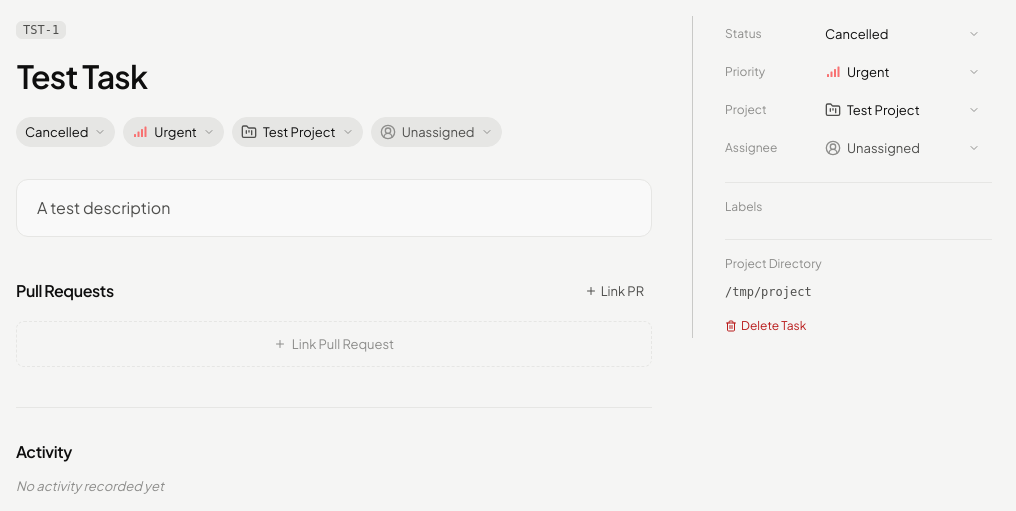
Scenario: TaskDetail › task fields › renders project chip and lists workspace projects in popover
Expected: the text "Test Project" below "TST-1" is shown, [263,124,336,140]
Click the button with test id "project-chip" at {"x": 902, "y": 110}, box [819,96,986,124]
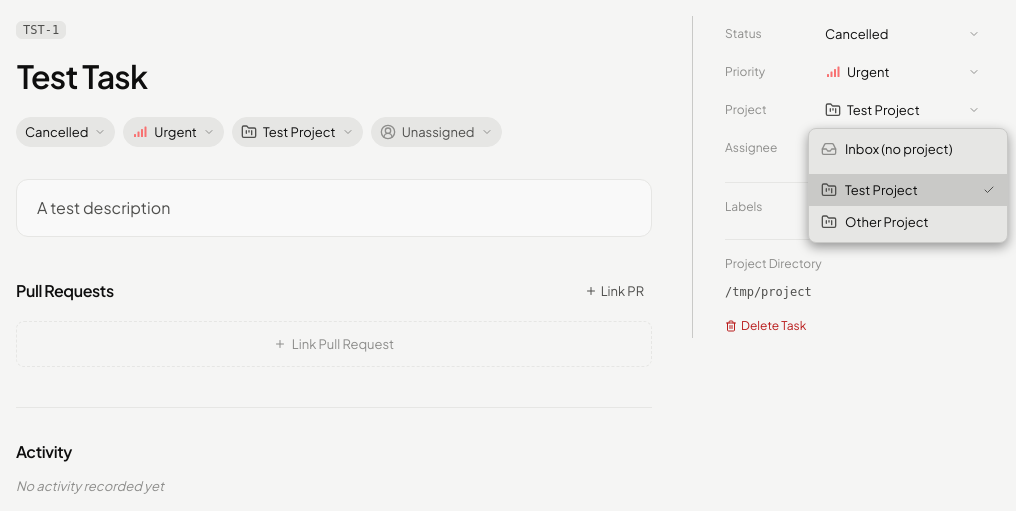
Expected: the text "Other Project" is shown, [845,214,929,230]
Expected: the text "Inbox (no project)" is shown, [845,141,952,157]
